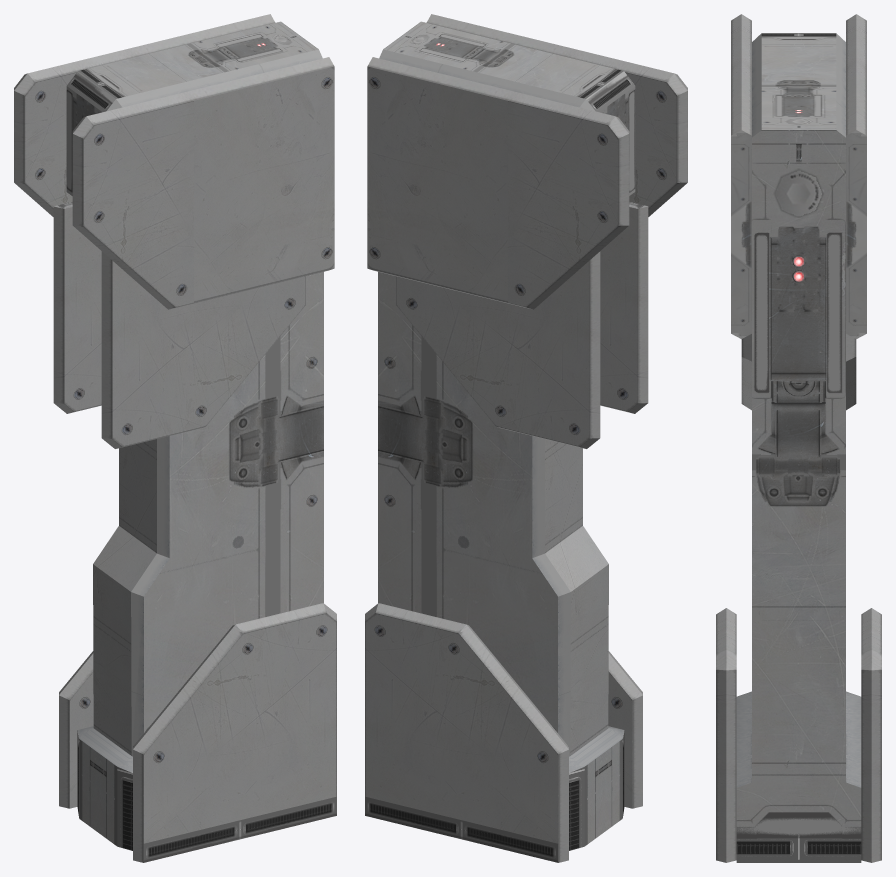
Rendered from SM_PillarS06.fbx.
3 views of the same model, side by side, from view 1: azimuth 30°, elevation 25°; view 2: azimuth 150°, elevation 25°; view 3: azimuth 270°, elevation 25° (orthographic). The views are drawn at different scales.
Visible parts, largest first — view 1: SM_PillarS06_LOD0; view 2: SM_PillarS06_LOD0; view 3: SM_PillarS06_LOD0.
Boxes of the visible parts, <box> form: SM_PillarS06_LOD0: <box>14,14,336,862</box>; SM_PillarS06_LOD0: <box>365,14,687,862</box>; SM_PillarS06_LOD0: <box>716,14,881,862</box>.
Bounding box in the file's own units: 140 × 80 × 390.
Materials: 3 (3 with a texture image).
